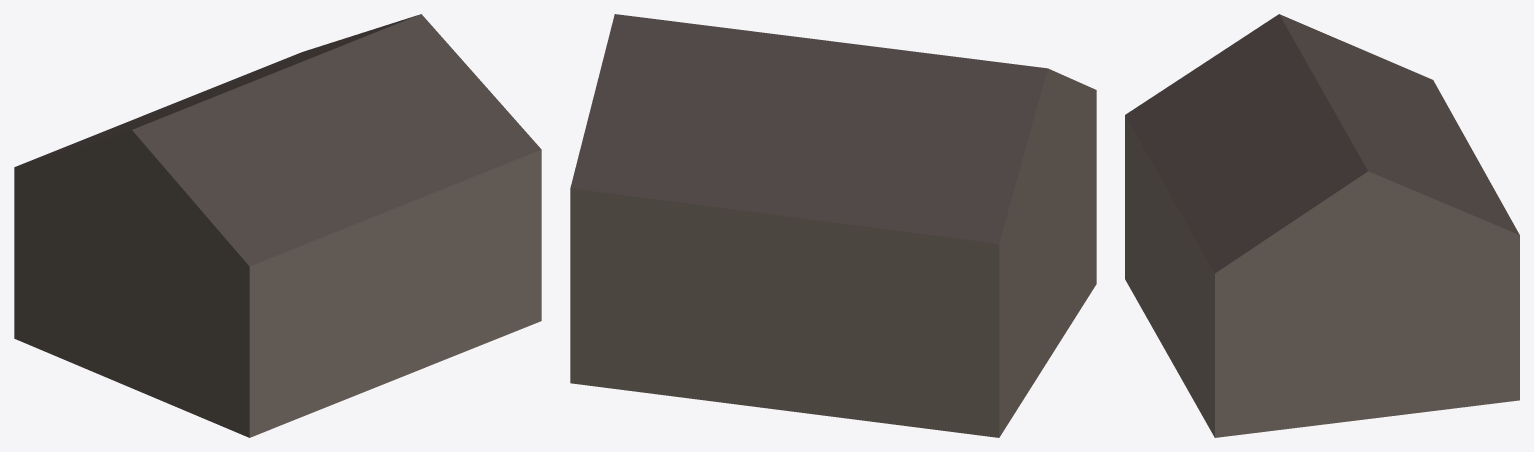
3 renders of one model, left to right at view 1: azimuth 30°, elevation 25°; view 2: azimuth 150°, elevation 25°; view 3: azimuth 270°, elevation 25°, orthographic. The views are drawn at different scales.
Visible parts, largest first — view 1: HP-w1196661465; view 2: HP-w1196661465; view 3: HP-w1196661465.
Part boxes in pixels (x1,y1,x2,y2): HP-w1196661465: (14, 14, 541, 437); HP-w1196661465: (570, 14, 1096, 437); HP-w1196661465: (1125, 14, 1519, 437).
Size of the model in its own units: 22.73 by 13.57 by 19.59.
